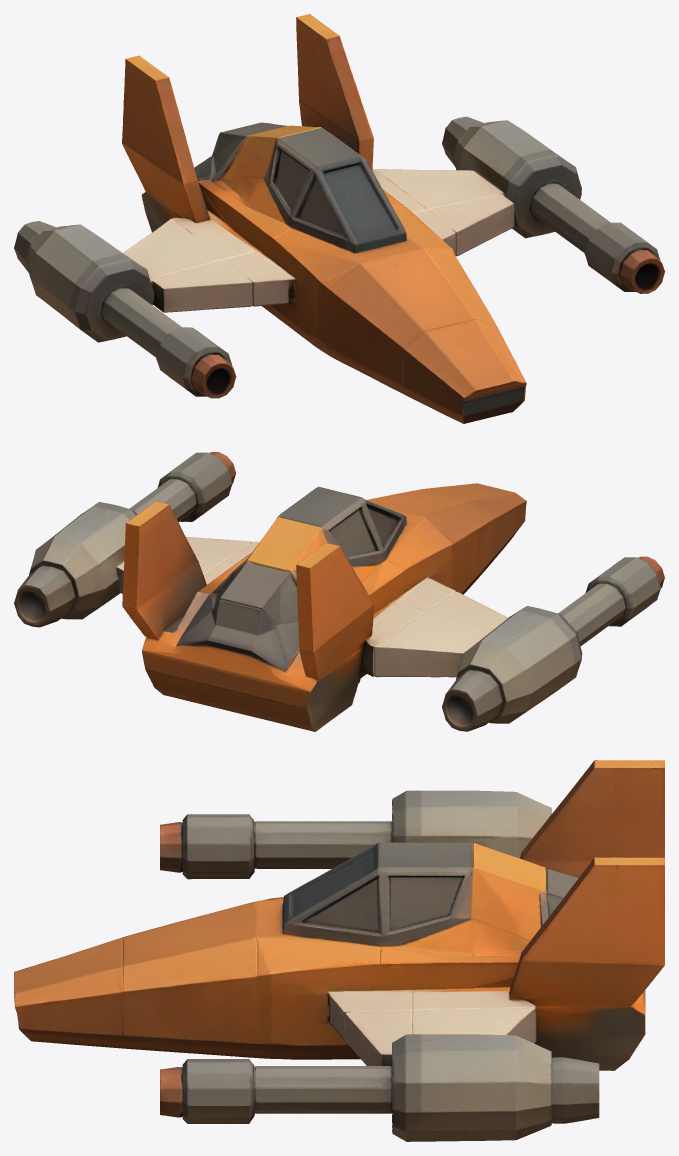
File: spaceship.glb
The picture shows the model from 3 angles, top to bottom: view 1: azimuth 30°, elevation 25°; view 2: azimuth 150°, elevation 25°; view 3: azimuth 270°, elevation 25°; orthographic projection. The views are drawn at different scales.
Parts seen in each view (by area): view 1: model; view 2: model; view 3: model.
Part boxes in pixels (x1=…): model: x1=14, y1=14, x2=664, y2=423; model: x1=14, y1=452, x2=664, y2=731; model: x1=14, y1=760, x2=664, y2=1141.
Bounding box in the file's own units: 1.81 × 0.6271 × 1.72.
Materials: 1 (1 with a texture image).
